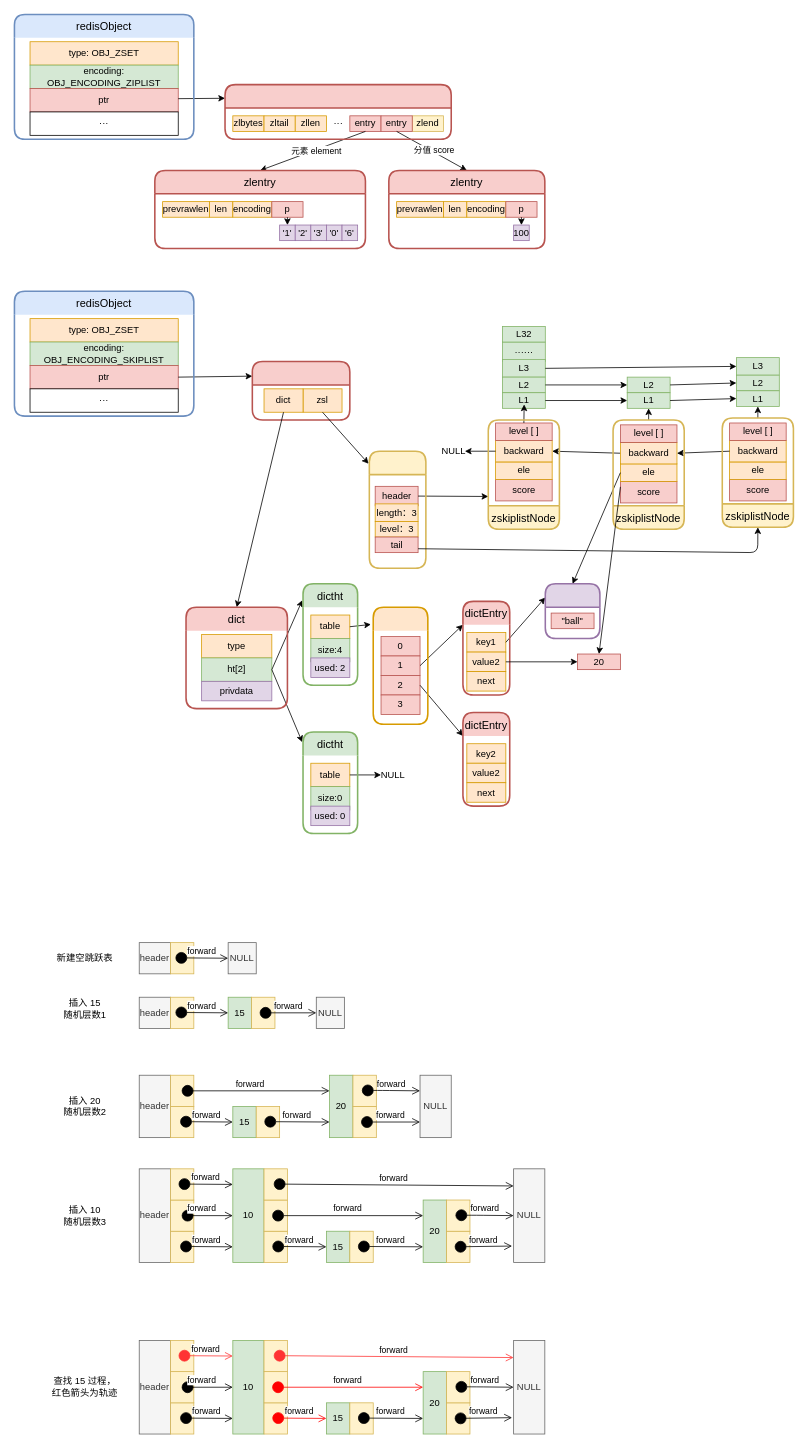
Some shapes in this 807 by 1448 pixel diagram are drawn without their labels. Here are the shapes that lost their labels. From the top down, the centre of each, then its label:
At (338,111): "ziplist".
At (300,390): "zset".
At (397,509): "zskiplist".
At (572,611): "sds".
At (400,665): "dictEntry**".
